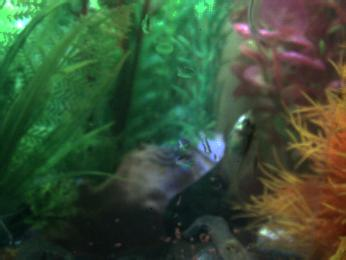X-ray fish: (222, 108, 261, 207)
glassfish: (242, 1, 275, 55)
siberian prawn: (176, 213, 261, 260), (1, 230, 81, 260)
